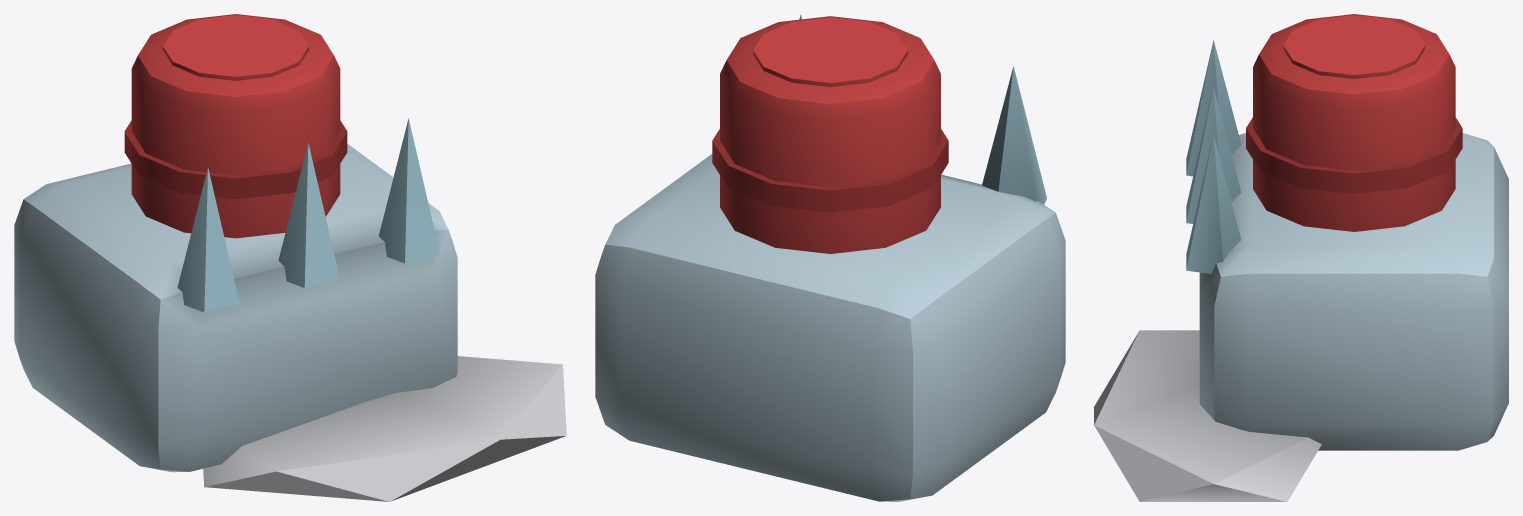
File: cv_eis_deco_2.glb
3 views of the same model, side by side, from view 1: azimuth 30°, elevation 25°; view 2: azimuth 150°, elevation 25°; view 3: azimuth 270°, elevation 25° (orthographic). The views are drawn at different scales.
Visible parts, largest first — view 1: body; view 2: body; view 3: body.
Part boxes in pixels (x1,y1,x2,y2): body: (14, 14, 566, 501); body: (595, 14, 1065, 501); body: (1094, 14, 1508, 501).
Size of the model in its own units: 1.67 by 1.47 by 1.48.
